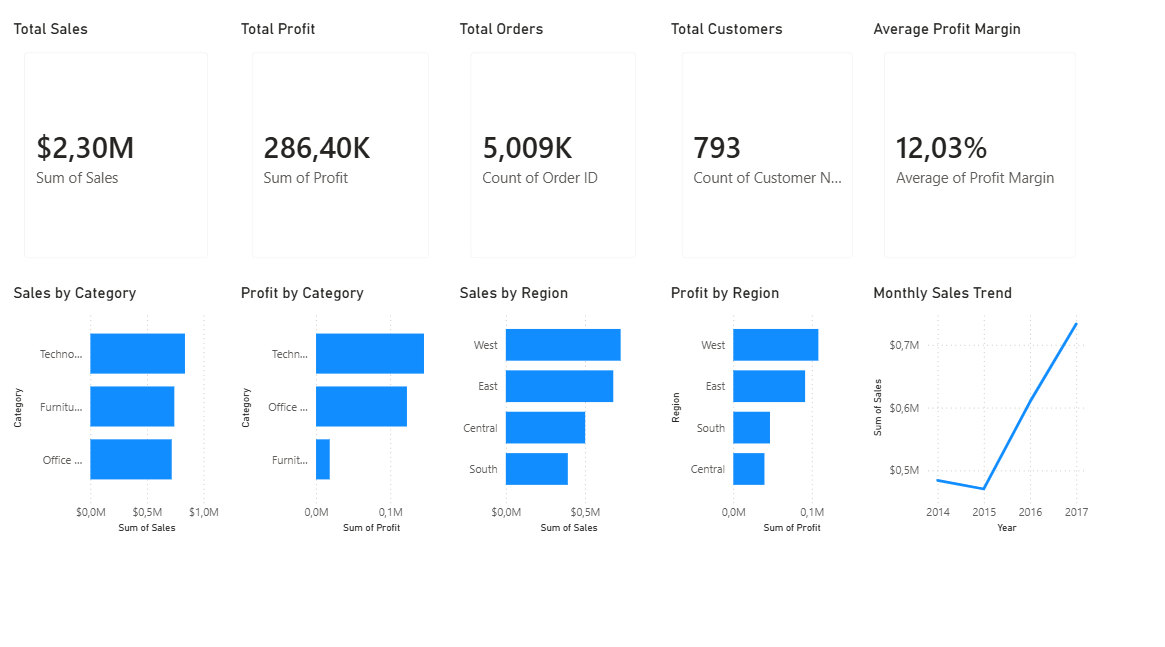

The dashboard page shown, as its layout file describes it:
{"tool":"powerbi","page":{"name":"Executive Dashboard","canvas":[1280,720],"ordinal":0},"visuals":[{"type":"cardVisual","title":"Total Sales","fields":{"Data":["Sum(feature_engineered_superstore.Sales)"]},"box":[9.6,30.2,236,279.9],"z":0},{"type":"cardVisual","title":"Total Profit","fields":{"Data":["Sum(feature_engineered_superstore.Profit)"]},"box":[259.3,30.2,229.2,279.9],"z":1},{"type":"cardVisual","title":"Total Orders","fields":{"Data":["Count(feature_engineered_superstore.Order ID)"]},"box":[499.5,30.2,216.8,279.9],"z":2},{"type":"cardVisual","title":"Total Customers","fields":{"Data":["Count(feature_engineered_superstore.Customer Name)"]},"box":[731.4,30.2,222.3,279.9],"z":3},{"type":"cardVisual","title":"Average Profit Margin","fields":{"Data":["Avg(feature_engineered_superstore.Profit Margin)"]},"box":[953.7,30.2,245.6,279.9],"z":4},{"type":"clusteredBarChart","title":"Sales by Category","fields":{"Category":["feature_engineered_superstore.Category"],"Y":["Sum(feature_engineered_superstore.Sales)"]},"box":[10,320,236,280],"z":5},{"type":"clusteredBarChart","title":"Profit by Category","fields":{"Category":["feature_engineered_superstore.Category"],"Y":["Sum(feature_engineered_superstore.Profit)"]},"box":[259,320,229,280],"z":6},{"type":"clusteredBarChart","title":"Sales by Region","fields":{"Category":["feature_engineered_superstore.Region"],"Y":["Sum(feature_engineered_superstore.Sales)"]},"box":[499,320,217,280],"z":7},{"type":"clusteredBarChart","title":"Profit by Region","fields":{"Category":["feature_engineered_superstore.Region"],"Y":["Sum(feature_engineered_superstore.Profit)"]},"box":[731,320,222,280],"z":8},{"type":"lineChart","title":"Monthly Sales Trend","fields":{"Y":["Sum(feature_engineered_superstore.Sales)"],"Category":["feature_engineered_superstore.Order Date.Variation.Date Hierarchy.Year","feature_engineered_superstore.Order Date.Variation.Date Hierarchy.Quarter","feature_engineered_superstore.Order Date.Variation.Date Hierarchy.Month","feature_engineered_superstore.Order Date.Variation.Date Hierarchy.Day"]},"box":[954,320,246,280],"z":9}]}

Visuals, with their boxes in screenshot pixels (x1, y1, x2, y2), scaled from the page's 1280x720 canvas onto the 1165x647 screenshot:
"Total Sales" cardVisual: Rect(9, 27, 224, 279)
"Total Profit" cardVisual: Rect(236, 27, 445, 279)
"Total Orders" cardVisual: Rect(455, 27, 652, 279)
"Total Customers" cardVisual: Rect(666, 27, 868, 279)
"Average Profit Margin" cardVisual: Rect(868, 27, 1092, 279)
"Sales by Category" clusteredBarChart: Rect(9, 288, 224, 539)
"Profit by Category" clusteredBarChart: Rect(236, 288, 444, 539)
"Sales by Region" clusteredBarChart: Rect(454, 288, 652, 539)
"Profit by Region" clusteredBarChart: Rect(665, 288, 867, 539)
"Monthly Sales Trend" lineChart: Rect(868, 288, 1092, 539)
